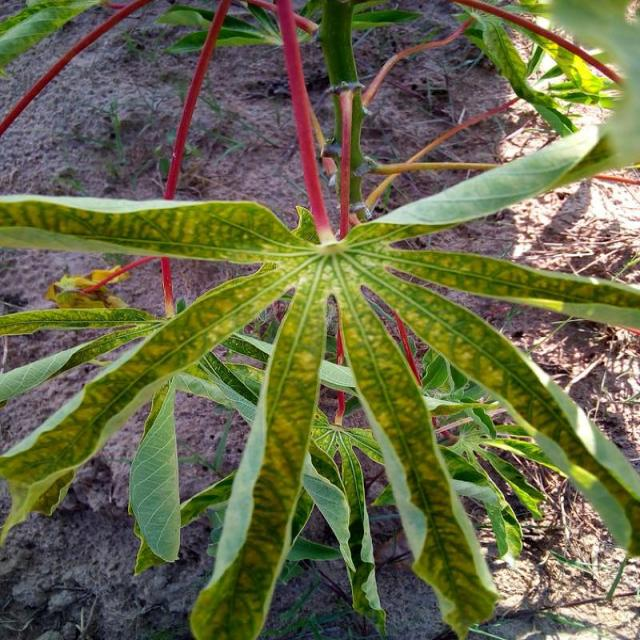cassava leaf: (2, 1, 639, 637), (336, 270, 500, 638), (190, 255, 330, 638)
